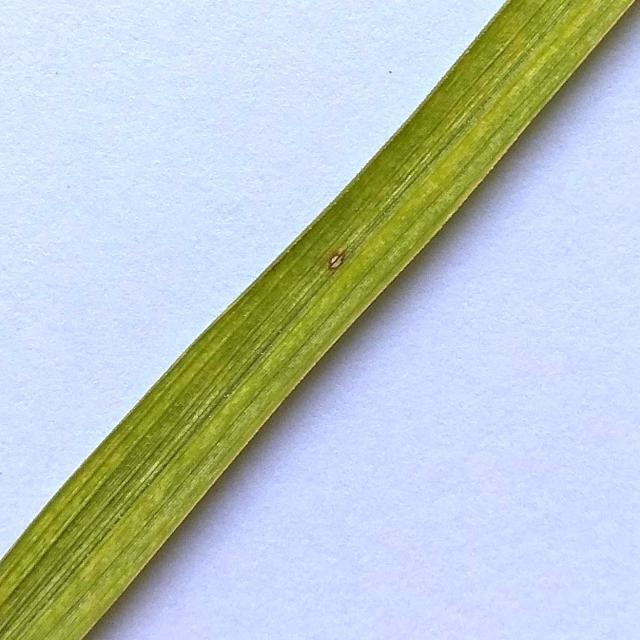Blast: (324, 250, 358, 272)
